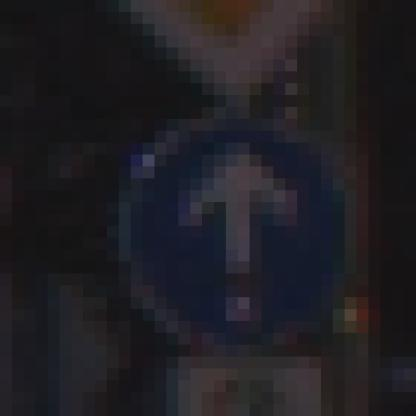AheadOnly: (72, 61, 358, 358)
